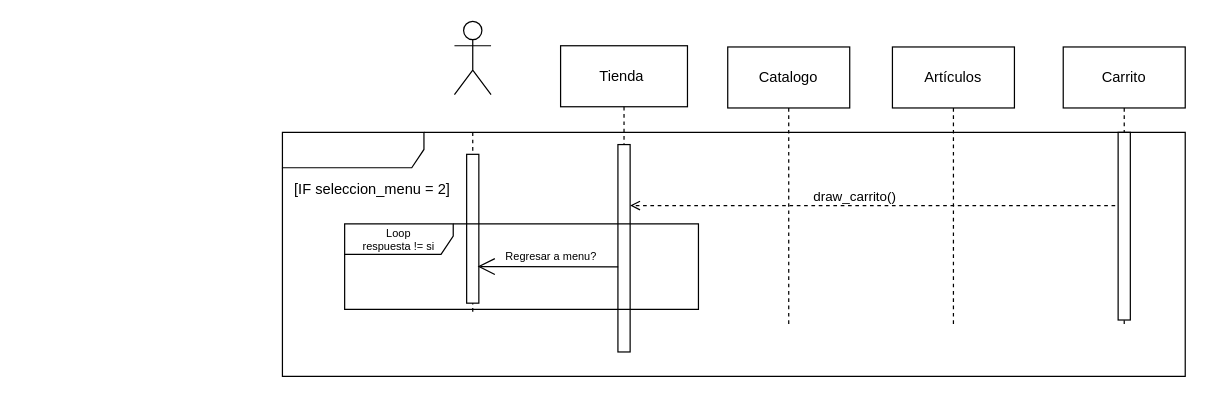
The diagram is 1207 pixels wide and 398 high, and some of its shapes have lost their labels. Each missing label, with the centre of its shape:
"Actor" belongs at point 472,57.
"Redireccionador" belongs at point 733,253.
